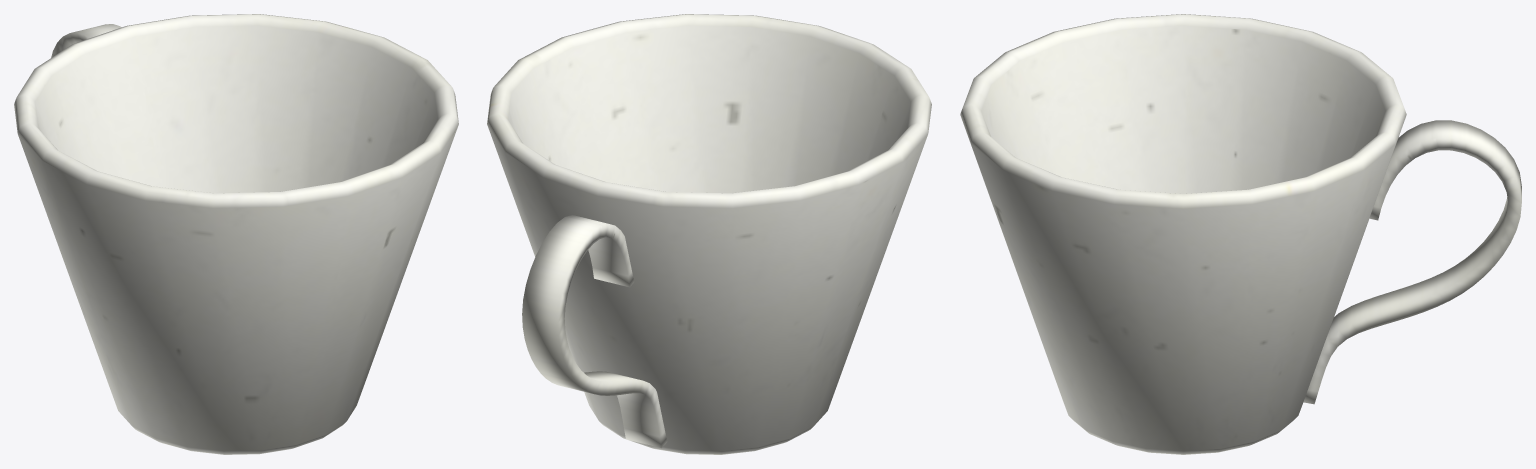
The model's file is cup_c01.fbx.
3 renders of one model, left to right at view 1: azimuth 30°, elevation 25°; view 2: azimuth 150°, elevation 25°; view 3: azimuth 270°, elevation 25°, orthographic.
Visible parts, largest first — view 1: cup_c01; view 2: cup_c01; view 3: cup_c01.
Part boxes in pixels (x1,y1,x2,y2): cup_c01: (14,14,458,454); cup_c01: (487,14,931,454); cup_c01: (960,14,1521,454).
Size of the model in its own units: 9.89 by 7.42 by 12.44.
Materials: 1 (1 with a texture image).
